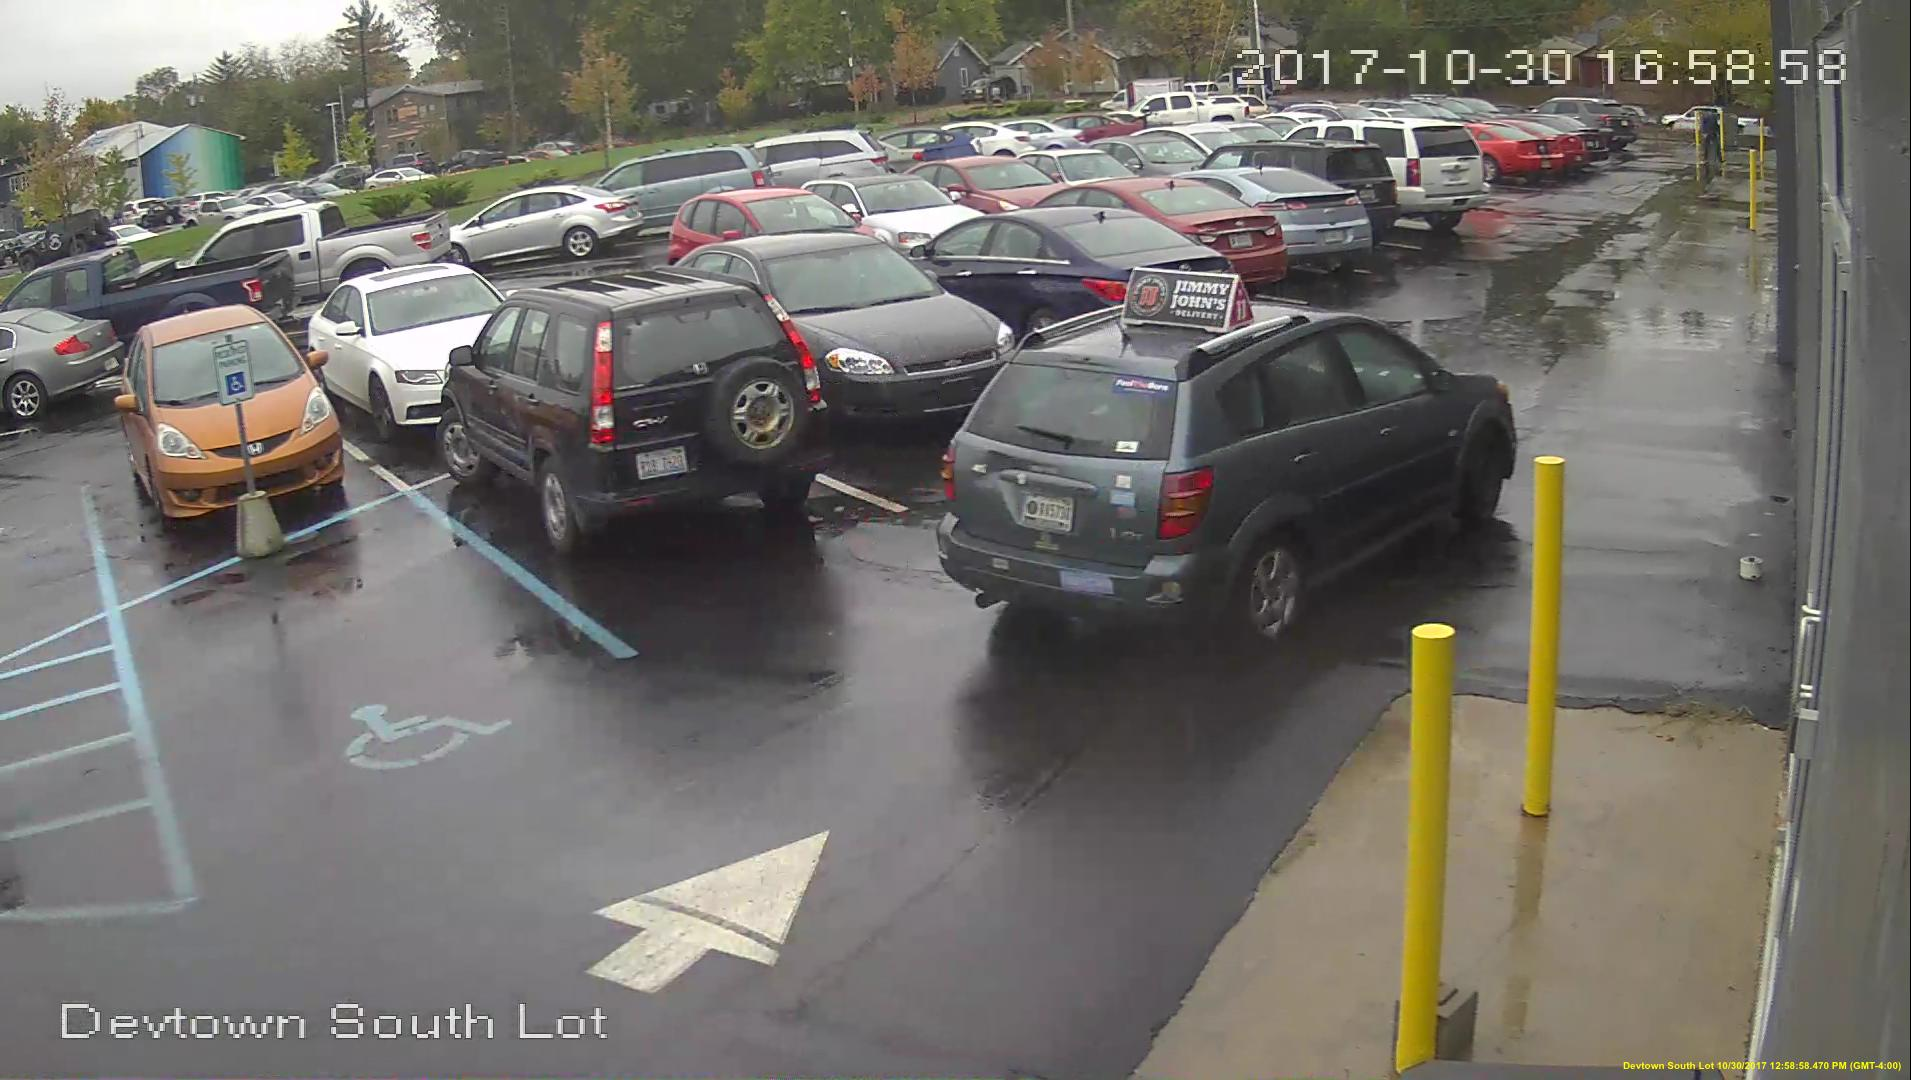jimmy_johns: (1120, 266, 1256, 343)
